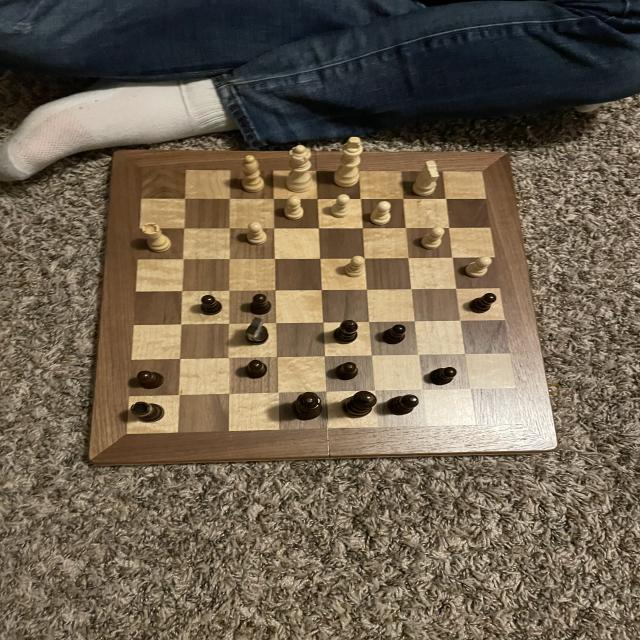bishop: (382, 391, 420, 418), (330, 319, 366, 347)
black-bishop: (340, 390, 380, 419)
black-king: (243, 317, 273, 346)
black-knight: (466, 291, 499, 316), (378, 322, 409, 348), (134, 368, 166, 391), (246, 292, 273, 317), (428, 365, 458, 387), (197, 294, 225, 316), (242, 358, 268, 380), (332, 361, 358, 381)
black-pawn: (288, 390, 326, 422)
black-queen: (129, 400, 167, 423)
black-rook: (238, 153, 268, 194)
white-bishop: (331, 135, 363, 191)
white-king: (409, 159, 441, 199)
white-knight: (464, 255, 496, 279), (281, 193, 308, 221), (419, 225, 446, 252), (342, 254, 371, 279), (328, 193, 354, 219), (244, 219, 268, 247), (369, 200, 393, 227)
white-pawn: (282, 143, 317, 194)
white-queen: (138, 220, 173, 254)
